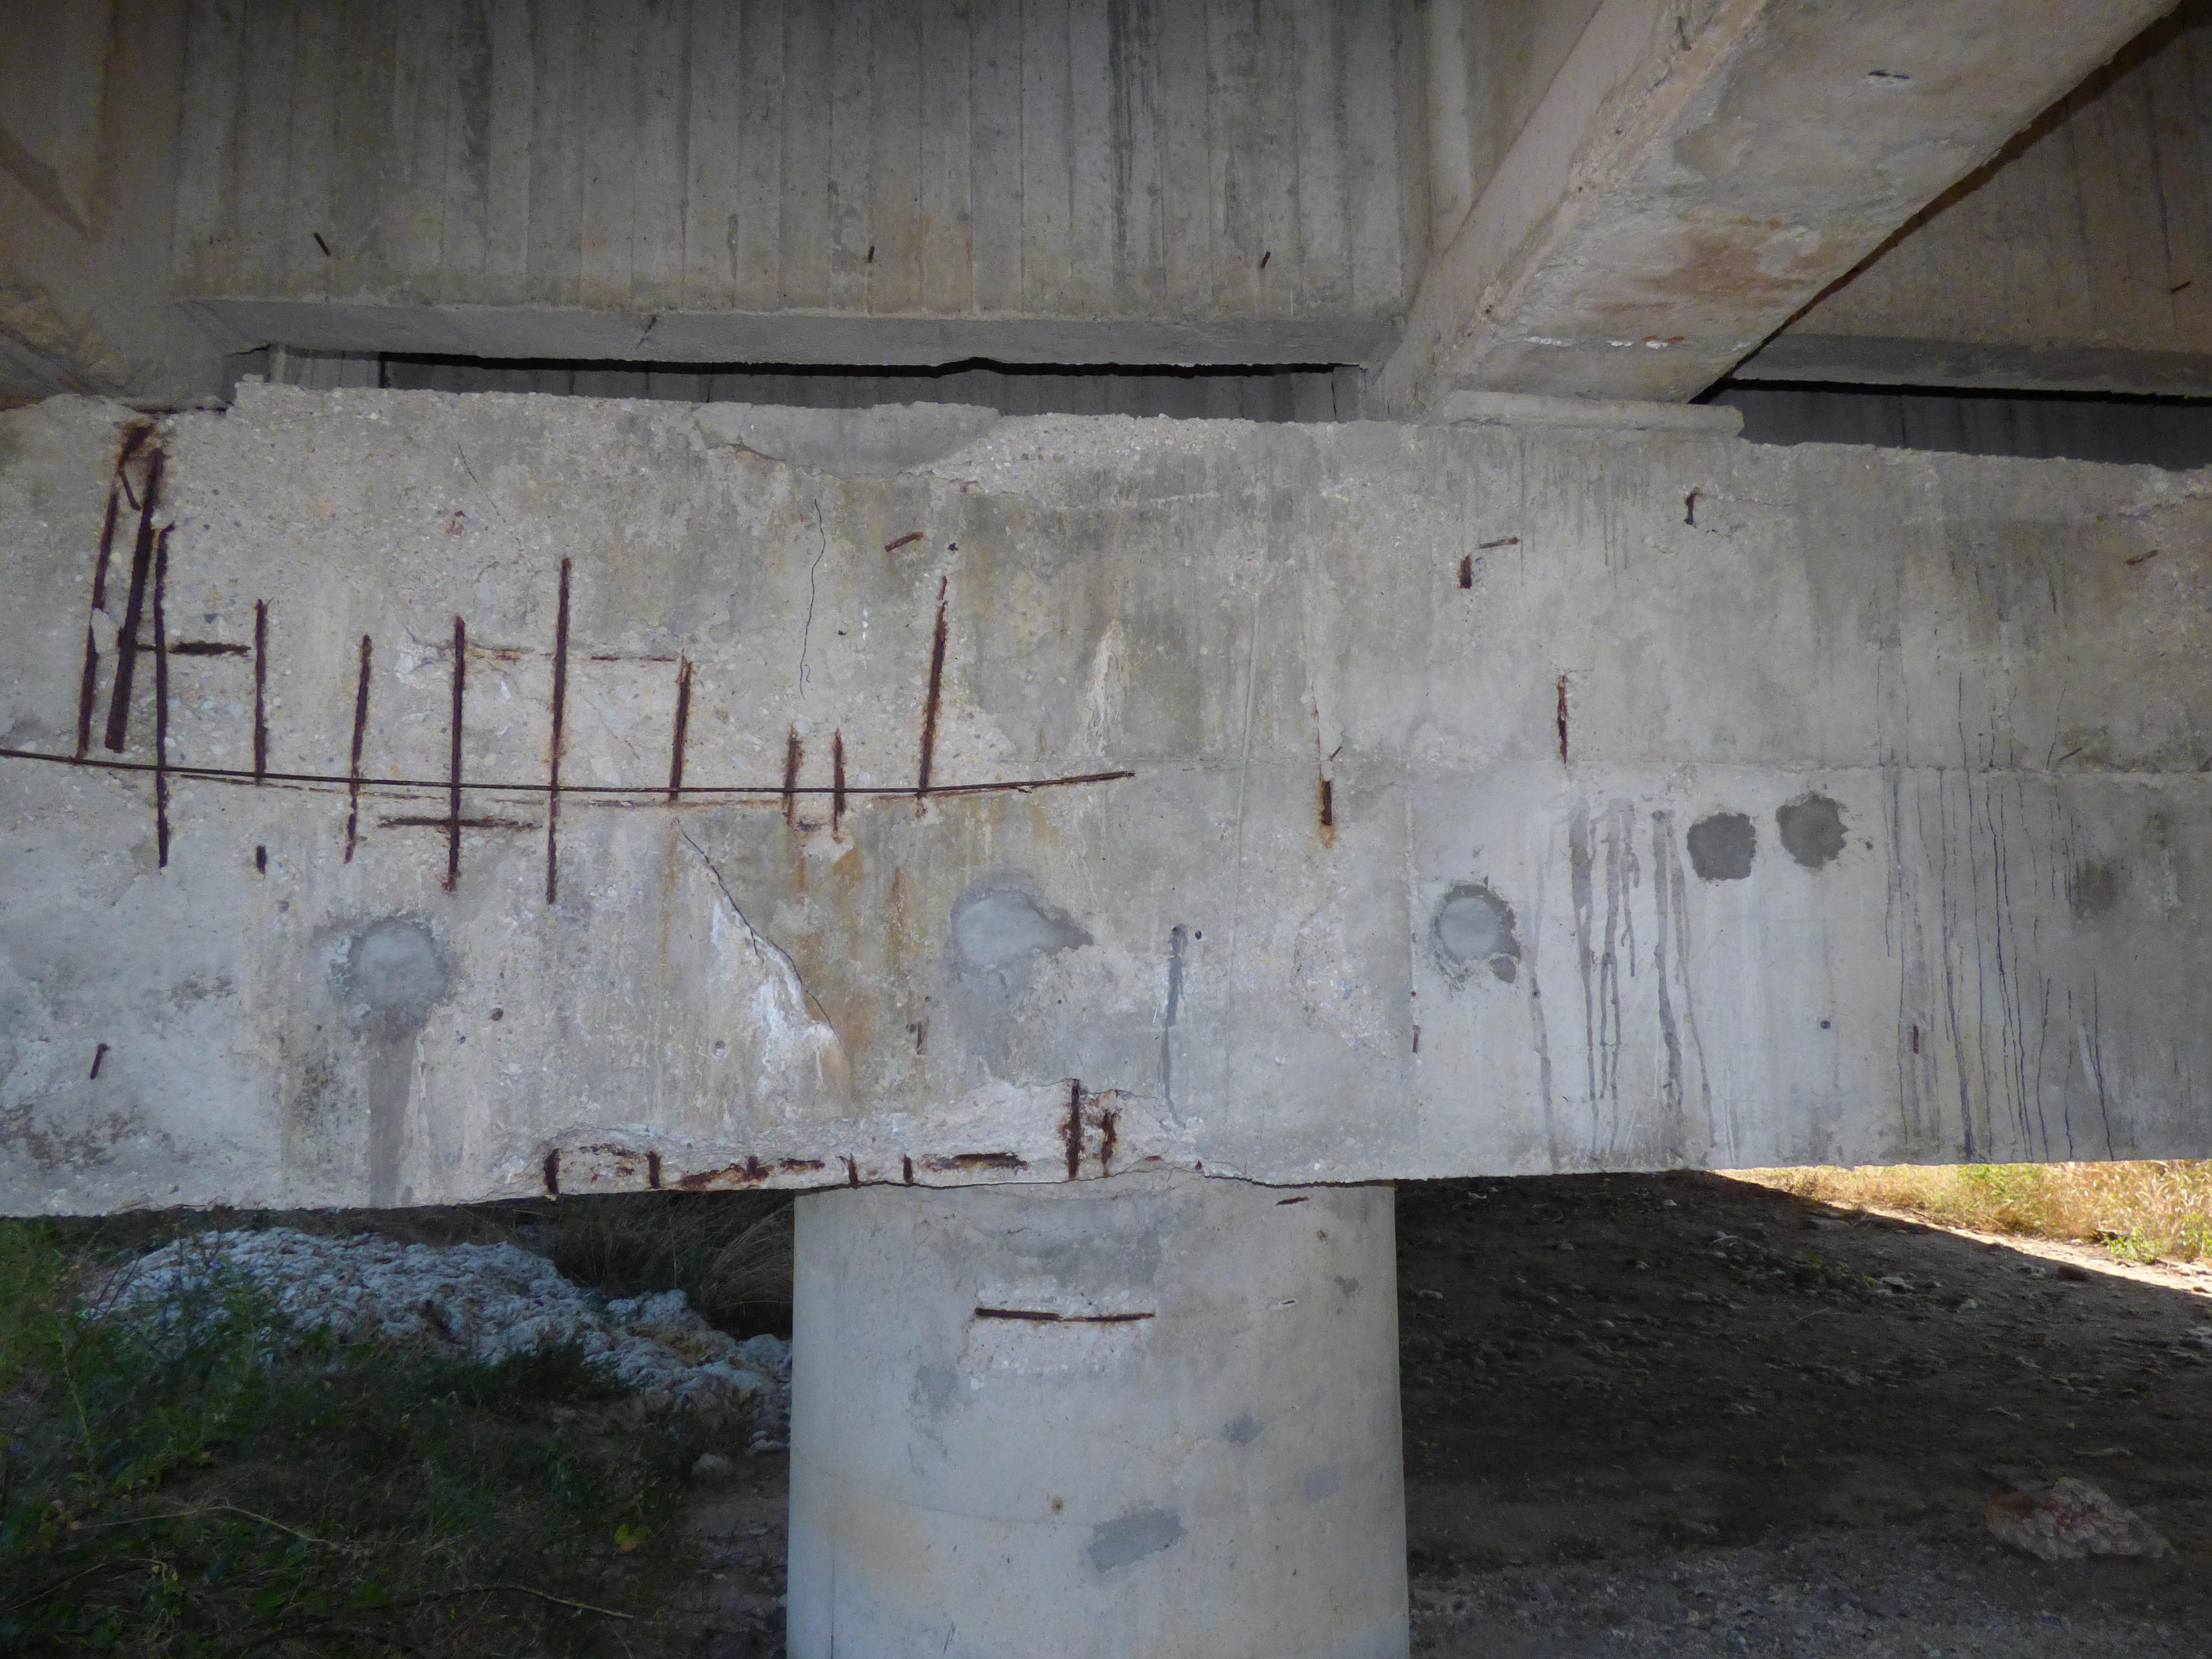corrosion: (709, 892, 841, 1107), (1076, 619, 1130, 814)
rebar: (2, 746, 1136, 795), (105, 457, 162, 746), (78, 493, 117, 760), (547, 559, 571, 904), (347, 633, 371, 861), (920, 605, 946, 796), (448, 617, 465, 890), (158, 528, 171, 868), (685, 1157, 824, 1187), (974, 1305, 1155, 1323), (671, 660, 690, 798), (378, 817, 538, 829), (254, 599, 265, 781), (115, 425, 152, 472), (932, 1154, 1019, 1169), (439, 647, 524, 660), (834, 734, 845, 829), (1069, 1086, 1080, 1180), (134, 404, 228, 415), (172, 643, 247, 655), (1099, 1114, 1113, 1175), (1557, 676, 1566, 763), (590, 653, 676, 662), (120, 472, 139, 511), (542, 1154, 561, 1190), (636, 317, 657, 349), (885, 533, 920, 551), (786, 735, 792, 821), (1320, 784, 1334, 826), (1869, 70, 1909, 82), (2125, 551, 2158, 565), (314, 232, 331, 258), (648, 1154, 660, 1190), (1684, 490, 1696, 525), (846, 1155, 859, 1188), (91, 1046, 103, 1079), (1679, 19, 1691, 51), (1460, 558, 1470, 587), (254, 843, 265, 873), (902, 1157, 913, 1185), (1275, 1197, 1308, 1206), (747, 1157, 758, 1183), (916, 1023, 925, 1054), (1479, 540, 1517, 547), (1413, 1025, 1421, 1053), (939, 577, 948, 599), (1912, 1026, 1919, 1053), (1261, 251, 1270, 267), (867, 246, 873, 263), (1282, 1300, 1296, 1305), (1146, 1155, 1160, 1161), (1197, 1161, 1200, 1169)
spall: (0, 383, 284, 913), (282, 561, 690, 918), (691, 542, 1130, 863), (479, 1073, 1271, 1202), (909, 408, 1264, 500), (1285, 835, 1399, 1061), (956, 1274, 1158, 1391), (2116, 465, 2210, 660), (0, 275, 132, 392), (77, 380, 242, 425)
